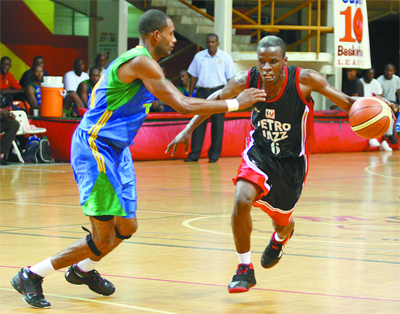ball: (347, 93, 396, 141)
player: (13, 9, 256, 308), (162, 36, 350, 293)
